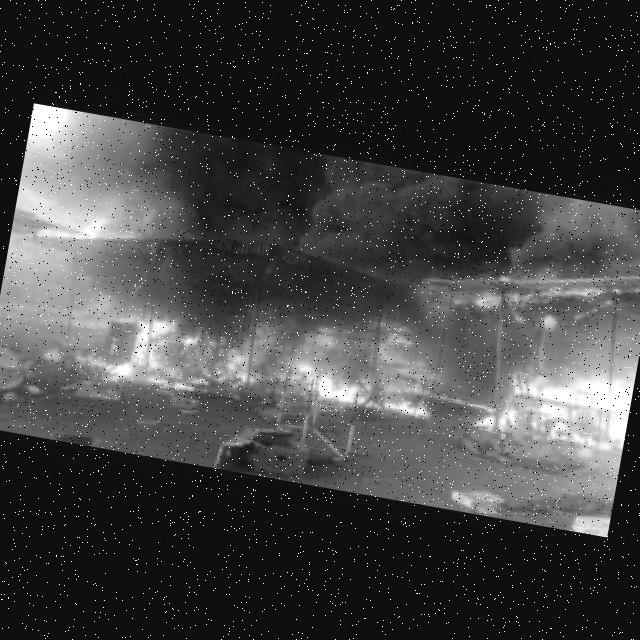Fire: (51, 258, 444, 430), (482, 351, 632, 454)
